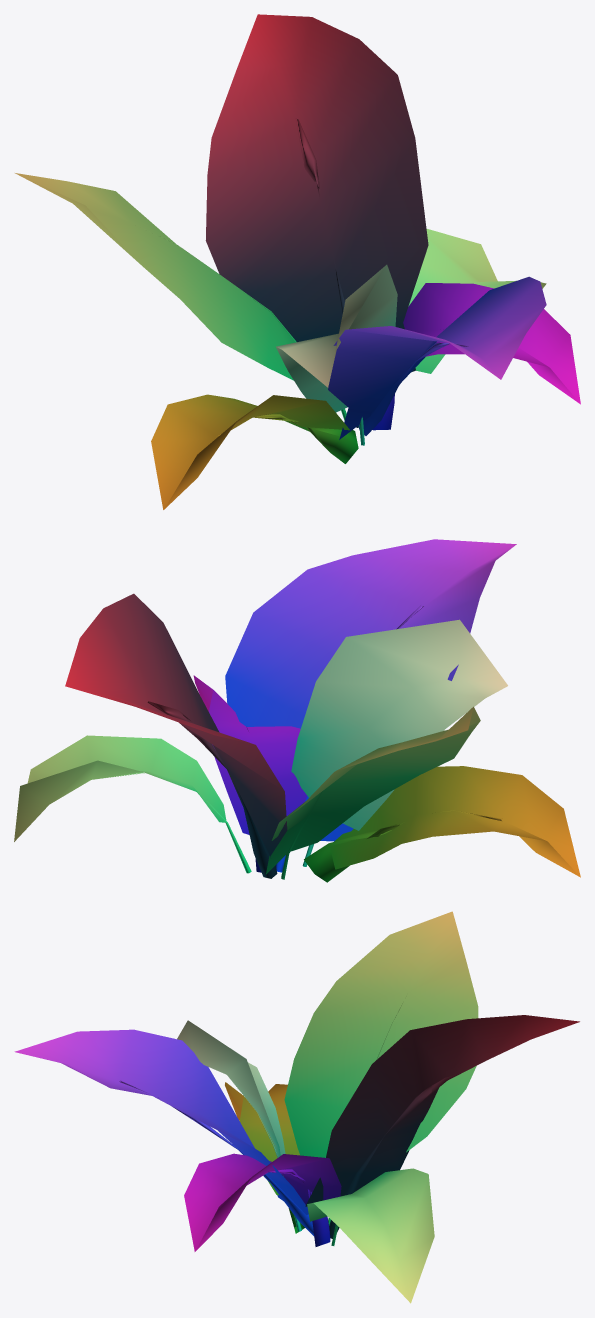
File: Lady_Fern_wdvlditia_Mid_wdvlditia_VarH_LOD1.fbx
The picture shows the model from 3 angles, top to bottom: view 1: azimuth 30°, elevation 25°; view 2: azimuth 150°, elevation 25°; view 3: azimuth 270°, elevation 25°; orthographic projection. The views are drawn at different scales.
Parts seen in each view (by area): view 1: _lcgg_VarH_LOD4; view 2: _lcgg_VarH_LOD4; view 3: _lcgg_VarH_LOD4.
Boxes of the visible parts, left/top/right/bottom form: _lcgg_VarH_LOD4: left=15, top=14, right=580, bottom=509; _lcgg_VarH_LOD4: left=14, top=539, right=580, bottom=882; _lcgg_VarH_LOD4: left=14, top=911, right=579, bottom=1303.
Bounding box in the file's own units: 128 × 81.09 × 159.
